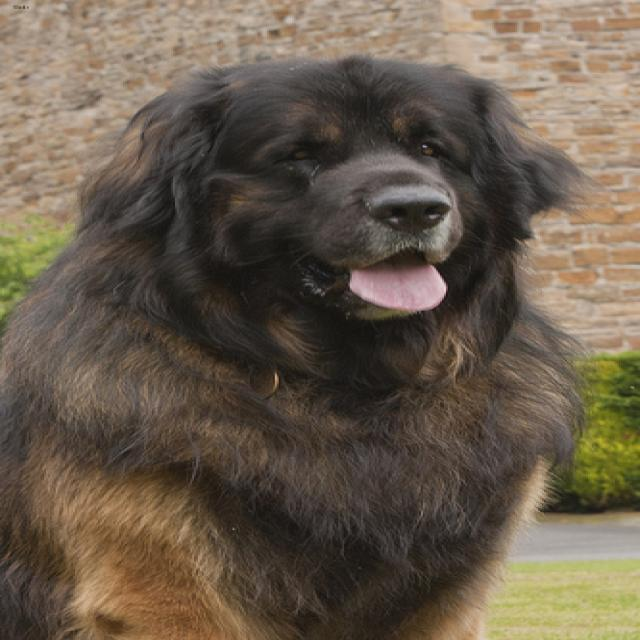dog-leonberger: (2, 42, 607, 637)
